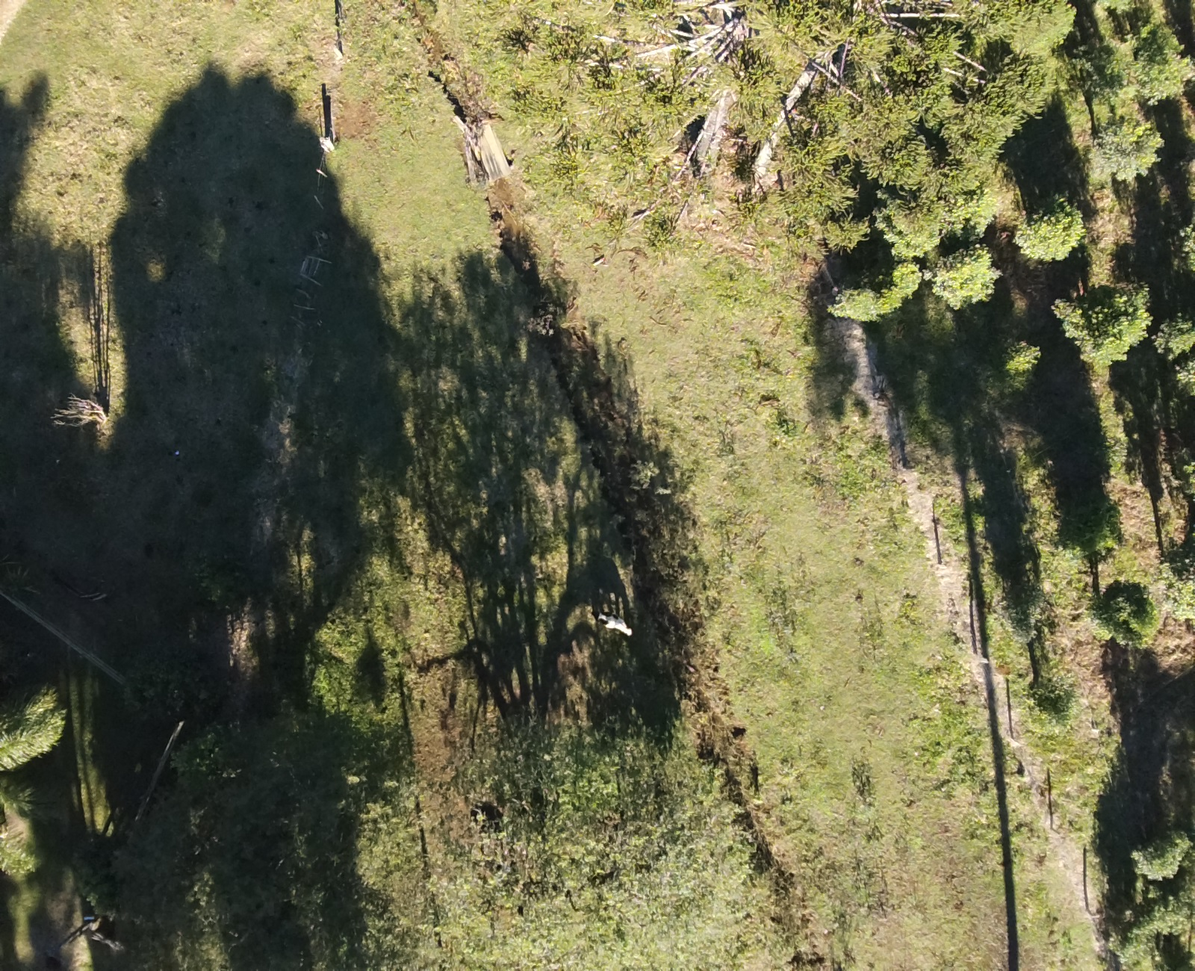erva: (1062, 276, 1153, 366), (1081, 111, 1169, 188), (831, 269, 907, 331), (1011, 202, 1084, 266), (1058, 491, 1121, 557), (1128, 33, 1190, 99), (1099, 583, 1158, 652), (1019, 666, 1084, 728), (944, 191, 1003, 239), (1131, 825, 1182, 878), (941, 254, 1003, 297), (873, 215, 949, 249), (1137, 890, 1189, 938), (1162, 556, 1194, 624), (999, 332, 1037, 389), (878, 255, 922, 295), (1161, 312, 1194, 360), (1167, 221, 1194, 272)
